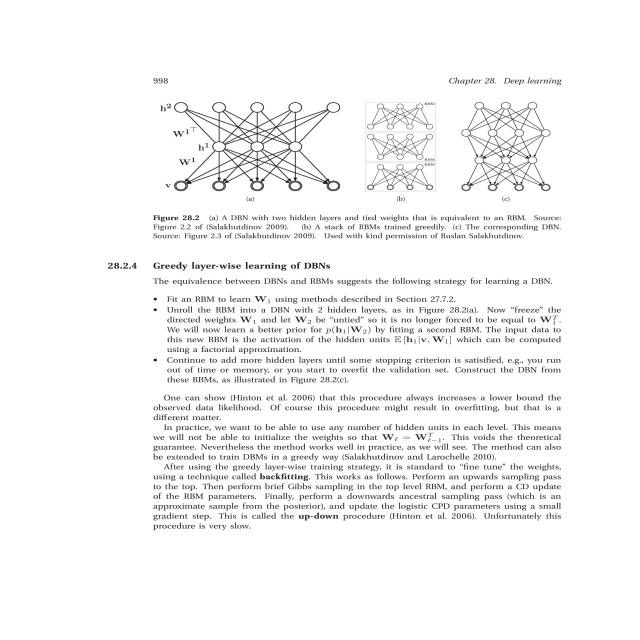diagram: (118, 64, 579, 246)
